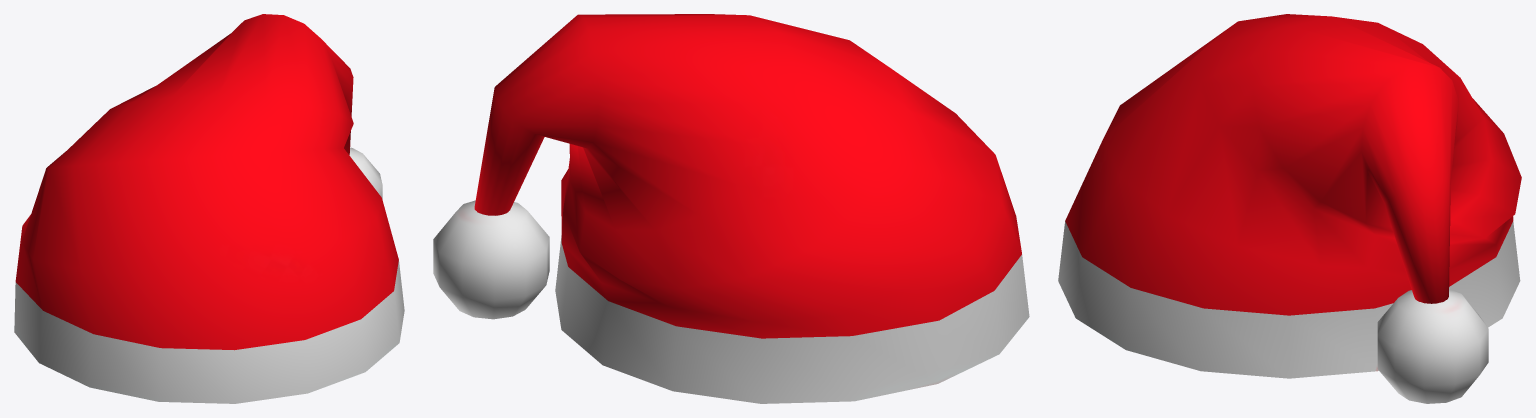
Rendered from noel_sapka.fbx.
3 renders of one model, left to right at view 1: azimuth 30°, elevation 25°; view 2: azimuth 150°, elevation 25°; view 3: azimuth 270°, elevation 25°, orthographic. The views are drawn at different scales.
Visible parts, largest first — view 1: noel_sapka; view 2: noel_sapka; view 3: noel_sapka.
Part boxes in pixels (bbox=[...]): noel_sapka: bbox=[14, 14, 404, 403]; noel_sapka: bbox=[433, 14, 1029, 403]; noel_sapka: bbox=[1058, 14, 1521, 403].
Bounding box in the file's own units: 99.96 × 60.12 × 85.83.
